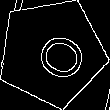O_NW: (19, 22, 85, 83)
